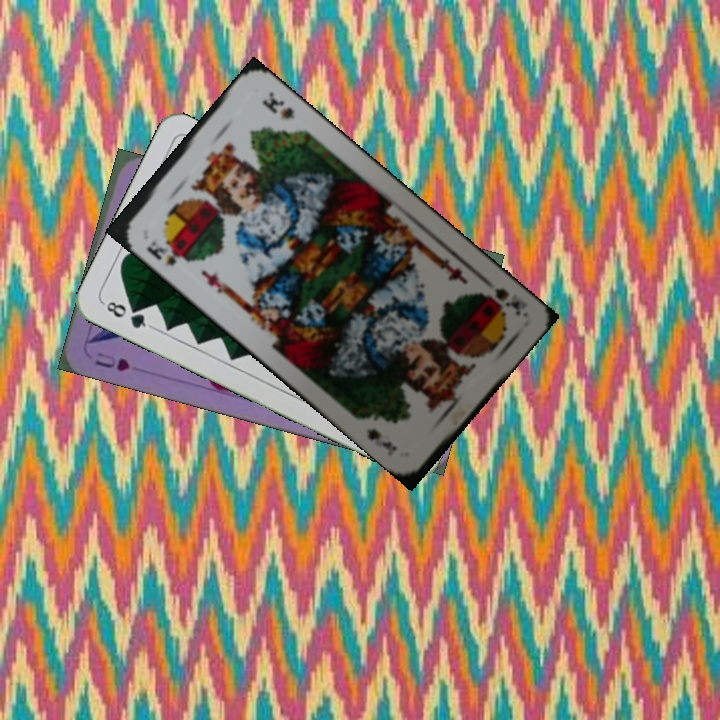G8: (99, 297, 155, 331)
HU: (91, 348, 133, 375)
SK: (476, 284, 524, 318), (142, 236, 190, 269)
